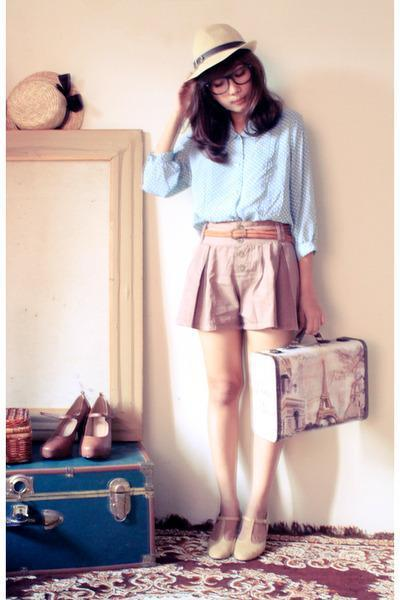bag: (272, 337, 376, 453)
hat: (193, 20, 251, 70)
shirt: (141, 108, 325, 256)
shoe: (209, 530, 279, 562)
shorts: (190, 214, 306, 347)
